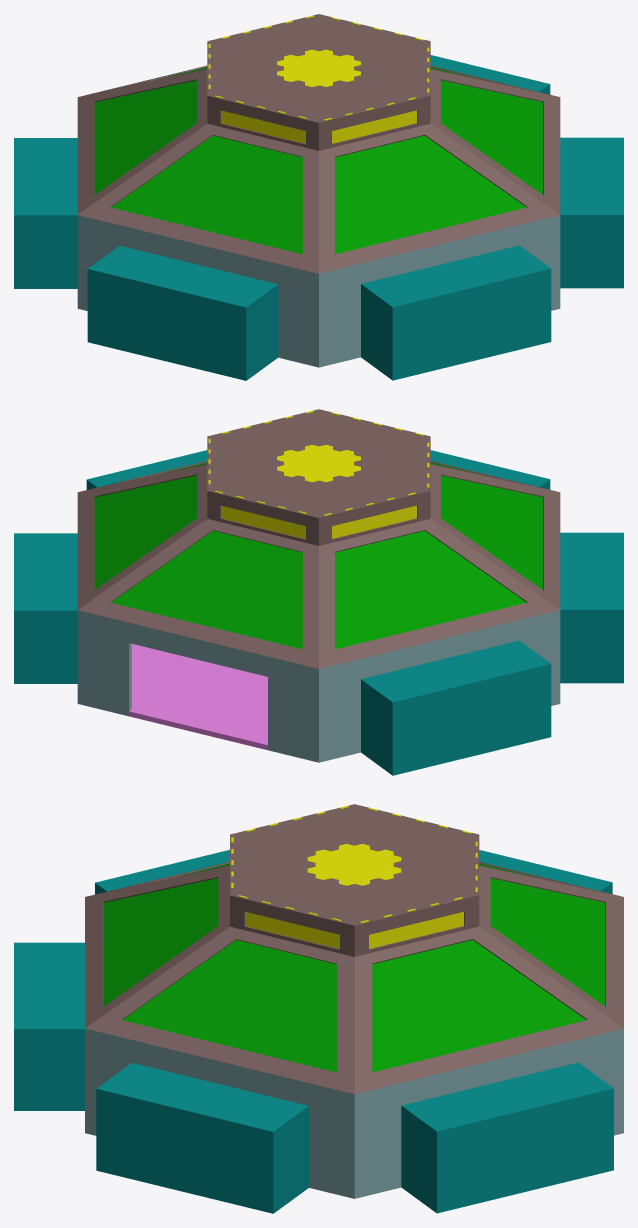
Rendered from UpdatedArena.fbx.
3 renders of one model, top to bottom at view 1: azimuth 30°, elevation 25°; view 2: azimuth 150°, elevation 25°; view 3: azimuth 270°, elevation 25°, orthographic. The views are drawn at different scales.
Parts seen in each view (by area): view 1: Ceiling, BottomShudder01 (×4), EnemySpawnPoint02, EnemySpawnPoint03, Walls, TopShudder01 (×4), EnemySpawnPoint04, EnemySpawnPoint01, EnemySpawnPoint05, pCylinder81, pCylinder104, BottomShudder003 (+1 smaller); view 2: Ceiling, BottomShudder01 (×4), Walls, EnemySpawnPoint01, TopShudder01 (×4), Floor, EnemySpawnPoint02, EnemySpawnPoint05, EnemySpawnPoint04, EnemySpawnPoint03, pCylinder81, pCylinder104 (+2 smaller); view 3: Ceiling, BottomShudder01 (×4), EnemySpawnPoint05, EnemySpawnPoint04, Walls, TopShudder01 (×4), EnemySpawnPoint03, EnemySpawnPoint02, EnemySpawnPoint01, pCylinder81, pCylinder104, BottomShudder005 (+1 smaller).
Part boxes in pixels (box(x1,y1,x2,y2)): Ceiling: box(77, 14, 560, 273); BottomShudder01 (×4): box(94, 90, 543, 254); EnemySpawnPoint02: box(87, 245, 278, 380); EnemySpawnPoint03: box(361, 245, 551, 380); Walls: box(77, 215, 560, 367); TopShudder01 (×4): box(146, 80, 491, 205); EnemySpawnPoint04: box(560, 137, 623, 288); EnemySpawnPoint01: box(14, 138, 77, 288); EnemySpawnPoint05: box(430, 55, 550, 94); pCylinder81: box(277, 49, 353, 76); pCylinder104: box(284, 60, 360, 86); BottomShudder003: box(221, 110, 305, 143); Ceiling: box(77, 409, 560, 668); BottomShudder01 (×4): box(94, 485, 543, 649); Walls: box(77, 610, 560, 762); EnemySpawnPoint01: box(361, 640, 551, 775); TopShudder01 (×4): box(146, 475, 491, 600); Floor: box(129, 644, 267, 750); EnemySpawnPoint02: box(560, 532, 623, 683); EnemySpawnPoint05: box(14, 533, 77, 683); EnemySpawnPoint04: box(86, 450, 207, 489); EnemySpawnPoint03: box(430, 450, 550, 489); pCylinder81: box(277, 455, 353, 482); pCylinder104: box(284, 445, 360, 471); Ceiling: box(85, 804, 623, 1093); BottomShudder01 (×4): box(104, 889, 604, 1072); EnemySpawnPoint05: box(401, 1062, 613, 1213); EnemySpawnPoint04: box(96, 1063, 308, 1213); Walls: box(85, 1028, 623, 1198); TopShudder01 (×4): box(161, 878, 547, 1018); EnemySpawnPoint03: box(14, 942, 84, 1110); EnemySpawnPoint02: box(95, 850, 229, 894); EnemySpawnPoint01: box(479, 850, 612, 893); pCylinder81: box(346, 844, 401, 885); pCylinder104: box(307, 844, 354, 885); BottomShudder005: box(245, 912, 339, 948).
Size of the model in its own units: 9318 by 3016 by 8204.
